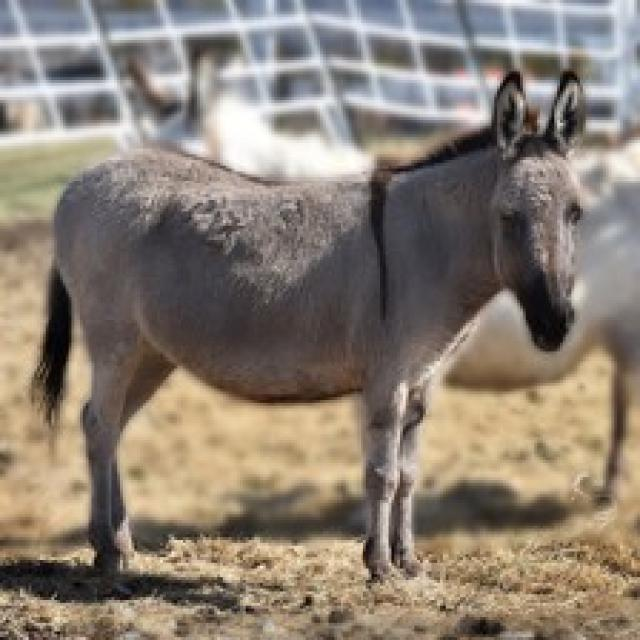Donkey: (29, 65, 588, 586), (100, 51, 636, 548)
